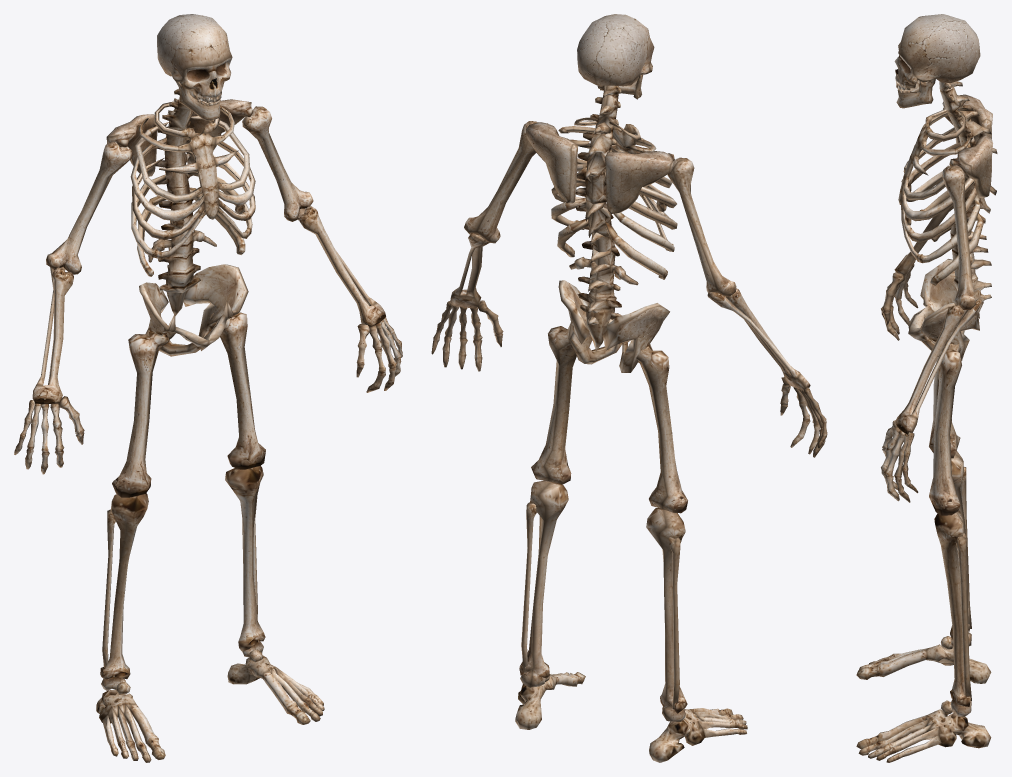
File: skeleton.fbx
3 views of the same model, side by side, from view 1: azimuth 30°, elevation 25°; view 2: azimuth 150°, elevation 25°; view 3: azimuth 270°, elevation 25° (orthographic).
Visible parts, largest first — view 1: Body; view 2: Body; view 3: Body.
Boxes of the visible parts, bbox=[...] form: Body: bbox=[14, 14, 402, 762]; Body: bbox=[431, 14, 827, 762]; Body: bbox=[856, 14, 997, 762].
Size of the model in its own units: 54.78 by 94.19 by 17.32.
